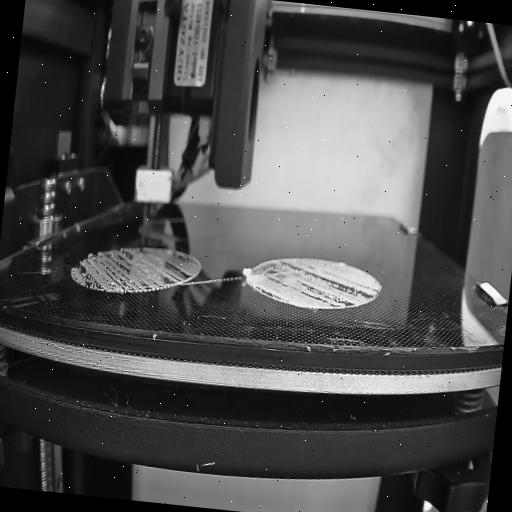under_extrusion: (250, 256, 384, 315), (70, 244, 148, 301), (159, 248, 203, 293)
